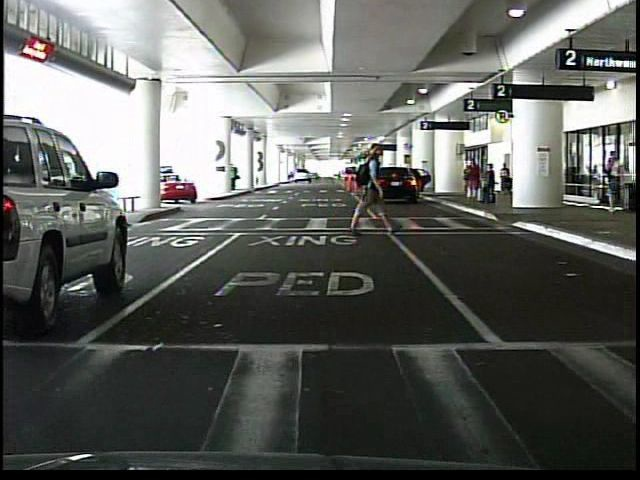person: (345, 149, 399, 238), (604, 152, 620, 214), (460, 159, 482, 203), (483, 164, 497, 203), (500, 163, 510, 192), (231, 164, 241, 192)
